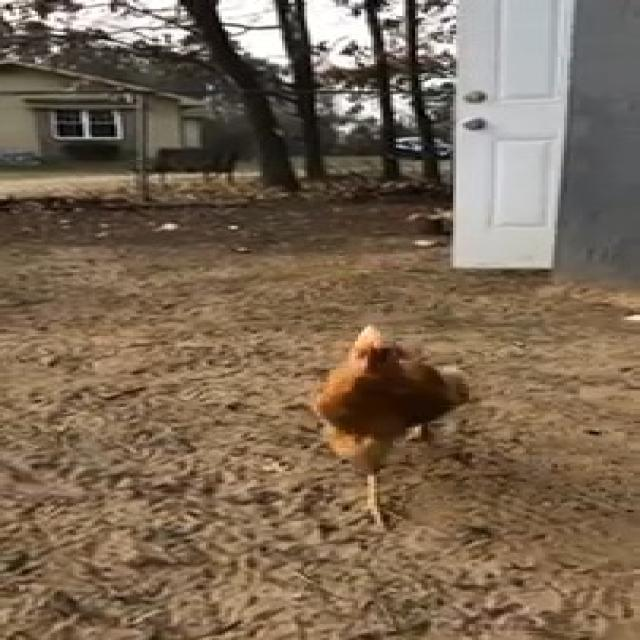running: (292, 300, 498, 532)
